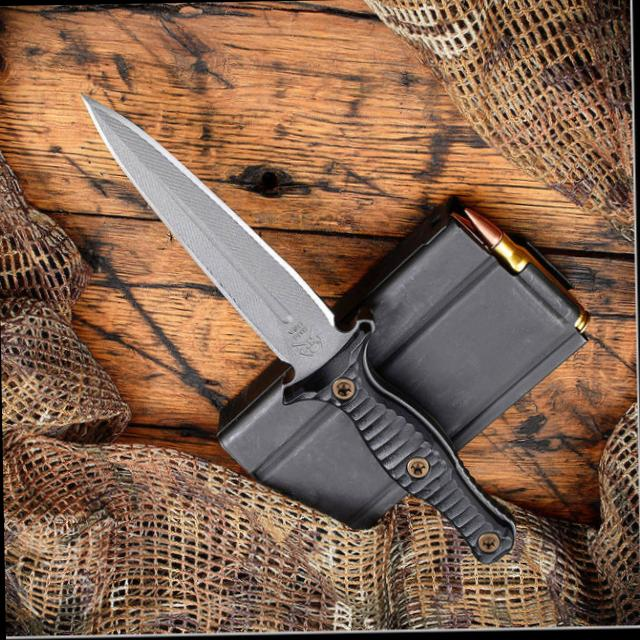Gun: (78, 85, 530, 568)
